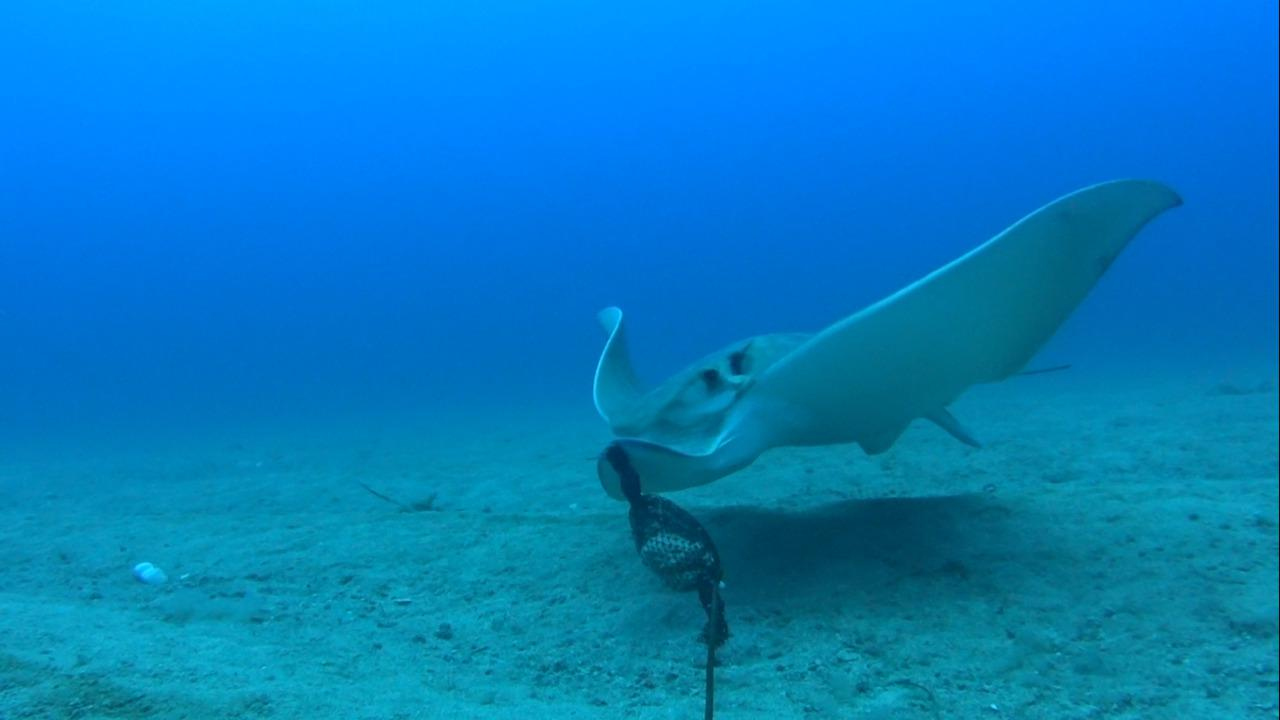myliobatis: (582, 173, 1191, 504)
